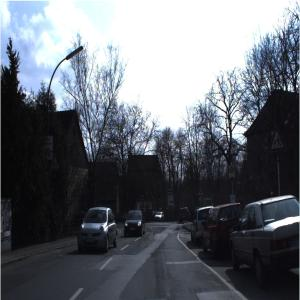SCHOOL CROSSING: (269, 126, 288, 154), (51, 154, 63, 173)
